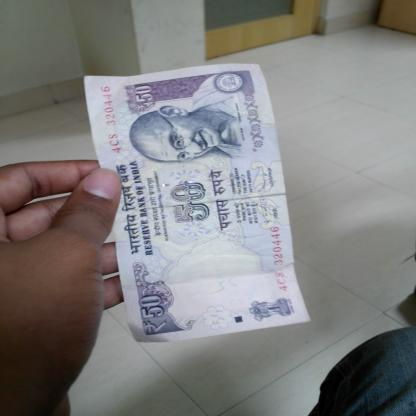Old50Front: (83, 64, 312, 342)
